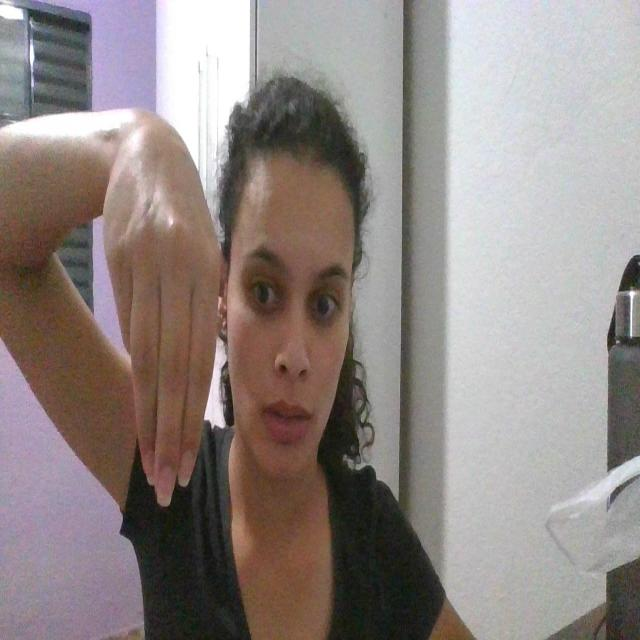M: (110, 94, 228, 516)
